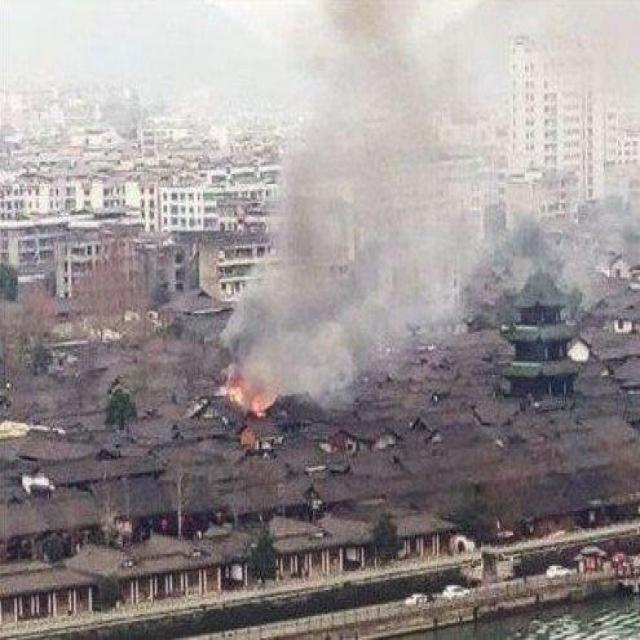Fire: (221, 375, 266, 418)
Smoke: (241, 2, 499, 390)
